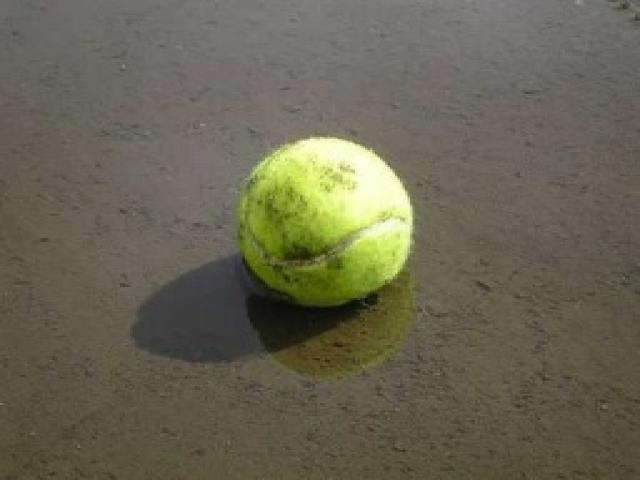tennis-ball: (234, 138, 414, 309)
